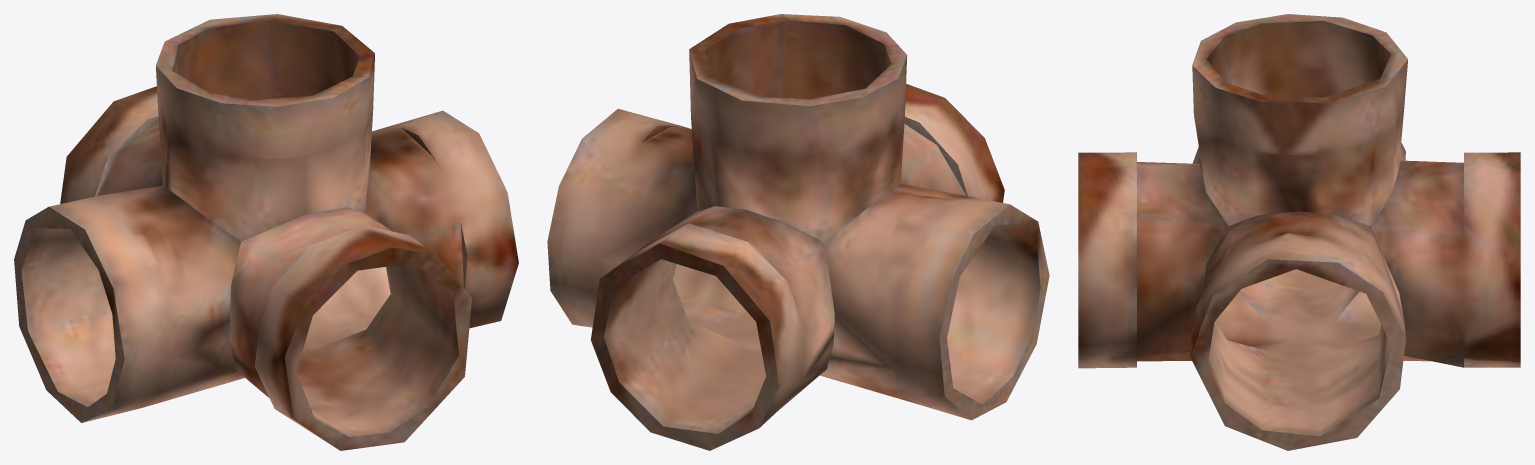
Rendered from small_copper_pipe_16.glb.
3 views of the same model, side by side, from view 1: azimuth 30°, elevation 25°; view 2: azimuth 150°, elevation 25°; view 3: azimuth 270°, elevation 25° (orthographic). The views are drawn at different scales.
Parts seen in each view (by area): view 1: small_copper_pipe_16; view 2: small_copper_pipe_16; view 3: small_copper_pipe_16.
Part boxes in pixels (x1,y1,x2,y2): small_copper_pipe_16: [14, 14, 518, 450]; small_copper_pipe_16: [547, 14, 1049, 450]; small_copper_pipe_16: [1078, 14, 1520, 450].
Size of what is drawn, in the model's own units: 0.0446 by 0.0331 by 0.0444.
1 material, 1 textured.
